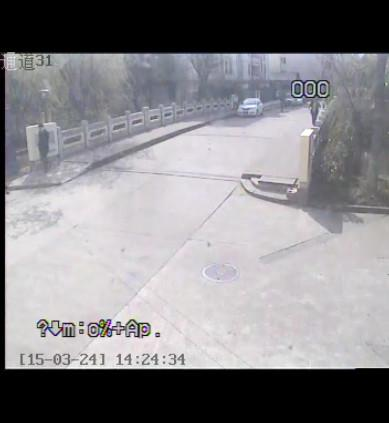person: (35, 124, 54, 173), (309, 98, 323, 126), (231, 96, 242, 109)
